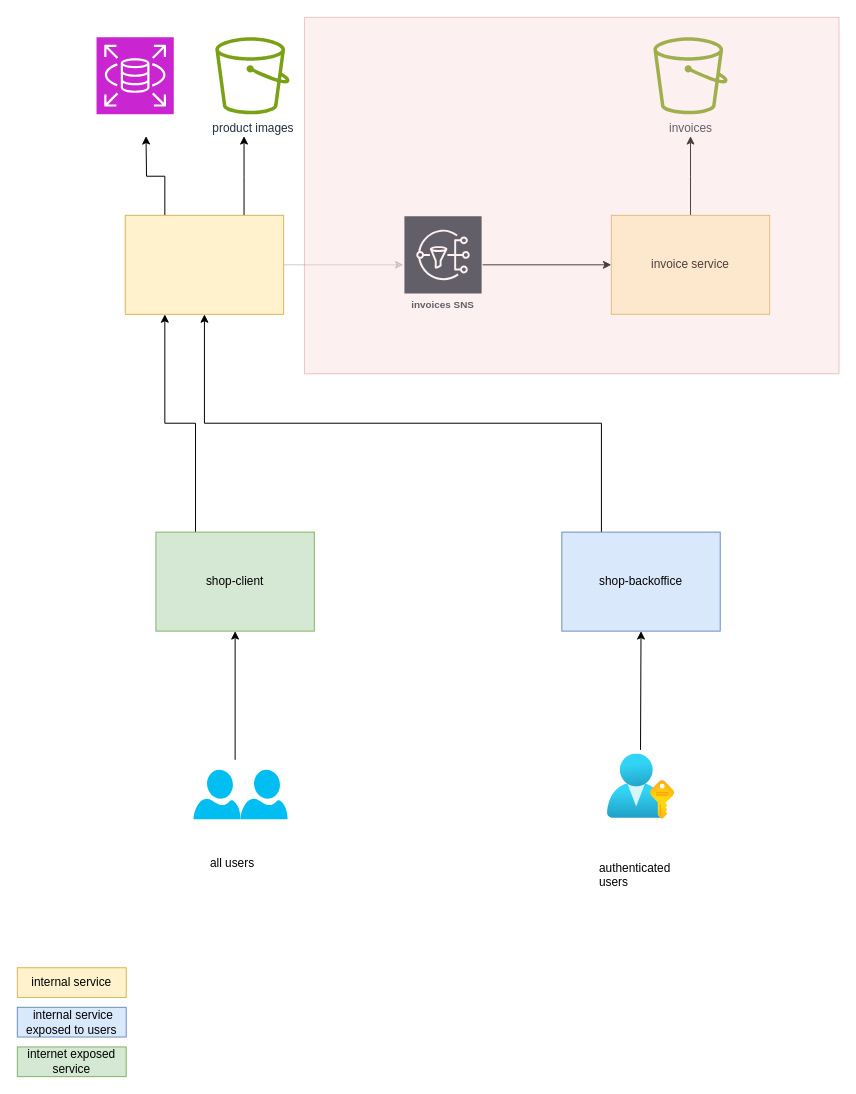
The diagram is 856 pixels wide and 1094 high, and some of its shapes have lost their labels. Here are the shapes that lost their labels. From the top down, the centre of each, then its label:
At pixel 135 75: "prodcuts DB".
At pixel 571 195: "Out of scope".
At pixel 204 264: "shop-backend".
